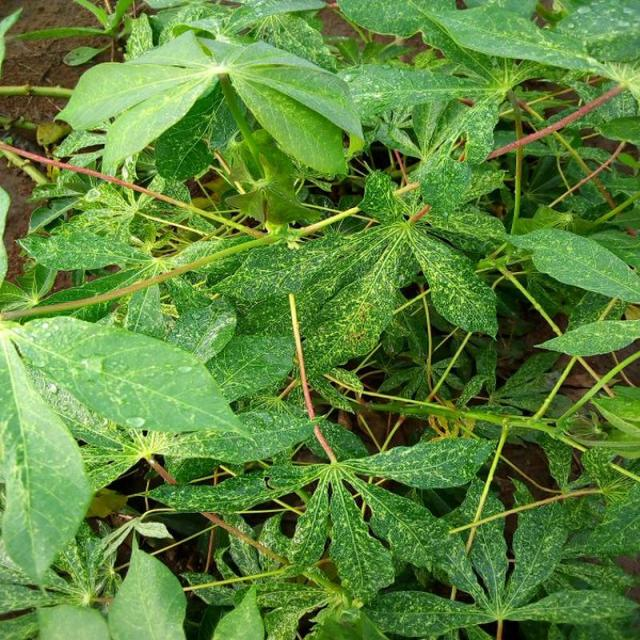cassava leaf: (0, 1, 638, 637), (54, 25, 366, 184), (8, 312, 254, 442)
